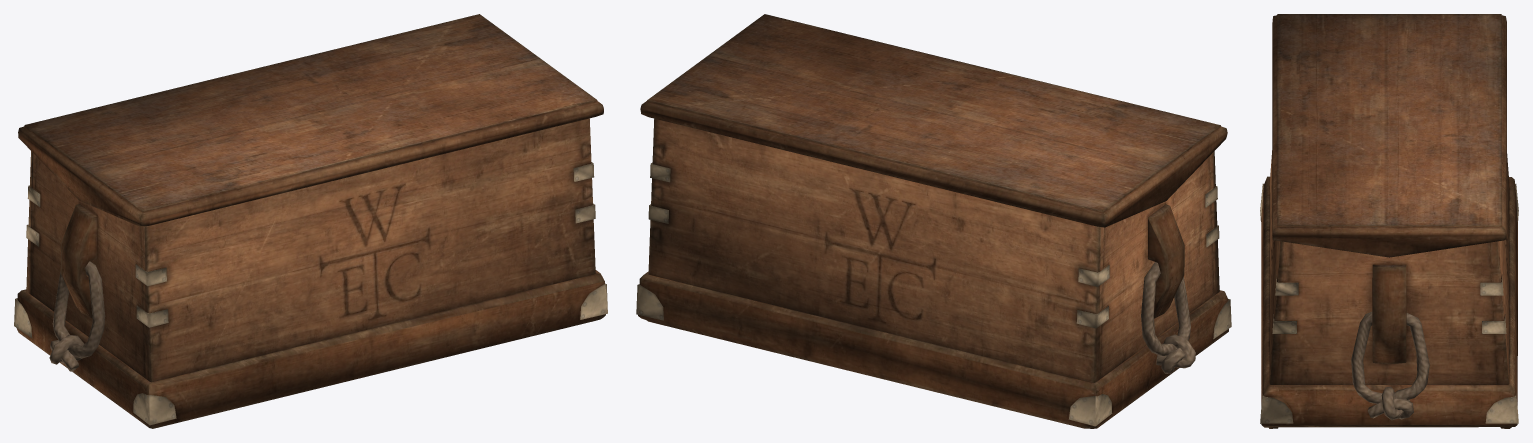
The model's file is crate.glb.
The picture shows the model from 3 angles, left to right: view 1: azimuth 30°, elevation 25°; view 2: azimuth 150°, elevation 25°; view 3: azimuth 270°, elevation 25°; orthographic projection. The views are drawn at different scales.
Visible parts, largest first — view 1: crate; view 2: crate; view 3: crate.
Part boxes in pixels (x1,y1,x2,y2): crate: (14, 14, 607, 428); crate: (636, 14, 1231, 428); crate: (1260, 14, 1518, 428).
Bounding box in the file's own units: 1.17 × 0.4636 × 0.5274.
Materials: 1 (1 with a texture image).
